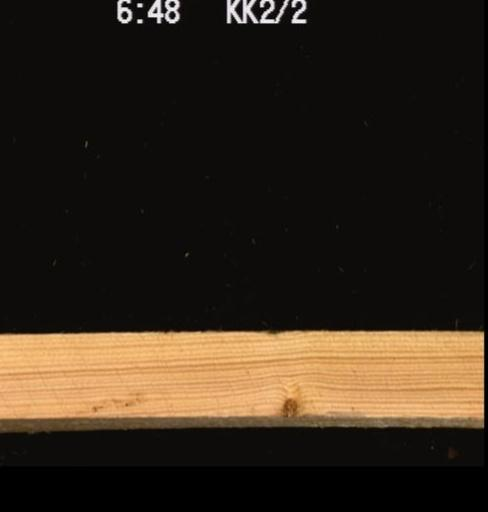edge_knot: (280, 395, 297, 420)
